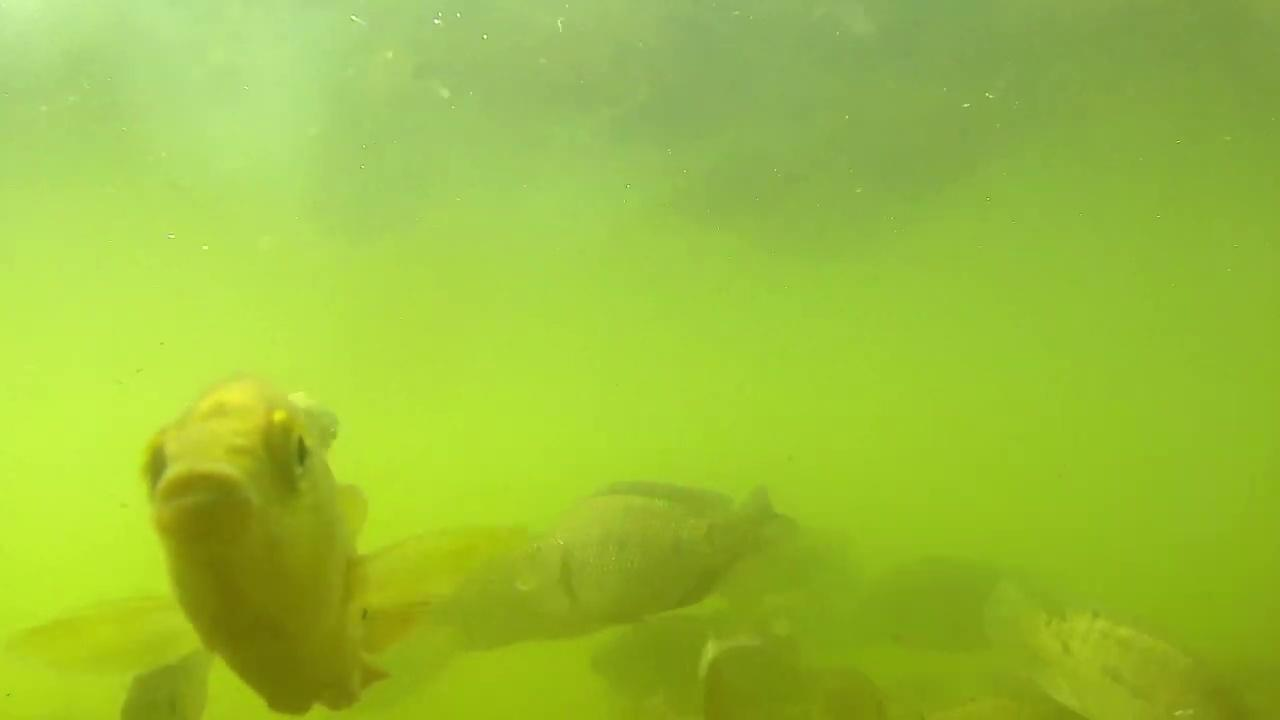Tilapia: (147, 364, 378, 712), (507, 480, 786, 626), (985, 582, 1246, 720)
